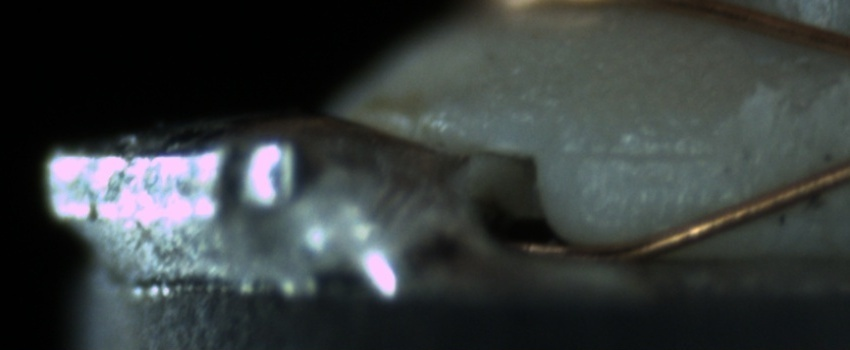DL: (566, 123, 718, 183)
